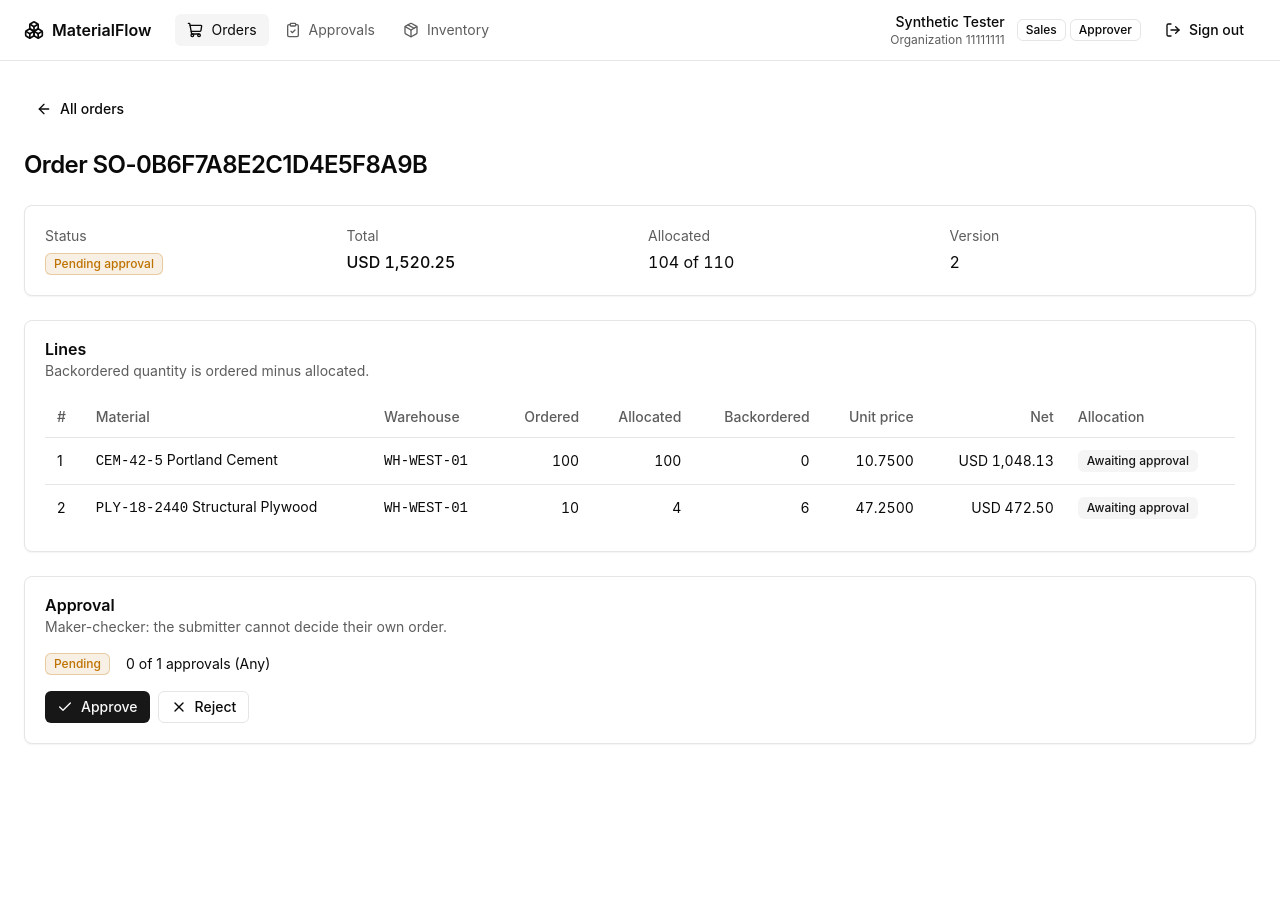
Scenario: OrderDetailPage › shows the approval and lets an assigned approver approve
Expected: the text "0 of 1 approvals (Any)" is shown, [126, 654, 270, 674]
Expected: the text "Awaiting approval" is shown 2 times, [1078, 450, 1198, 472]; [1078, 496, 1198, 518]
Step 1. Click the button "Approve" → (97, 706), box [45, 690, 150, 722]
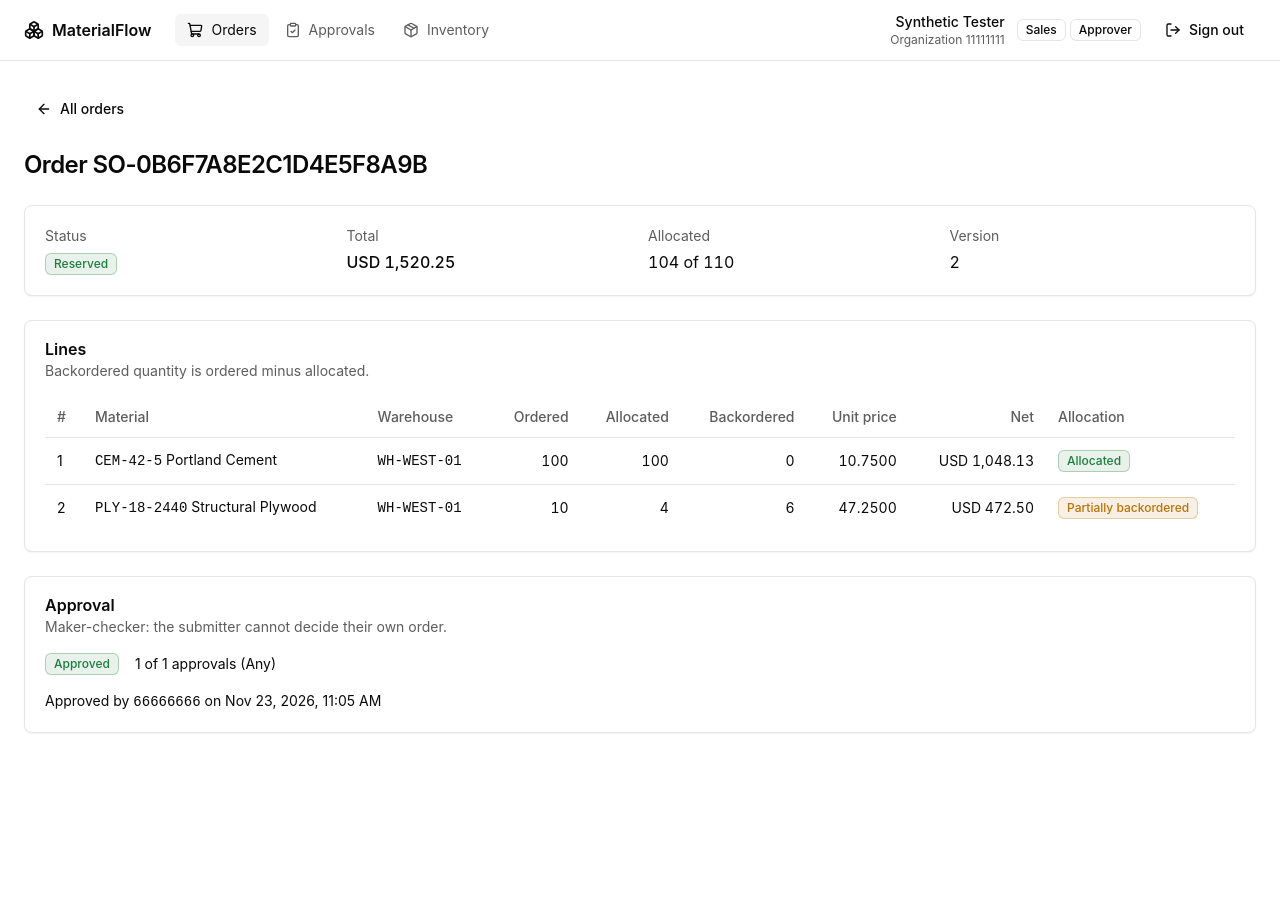
Expected: the list item "Approved by 66666666 on Nov 23, 2026, 11:05 AM" is shown, [45, 692, 381, 710]
